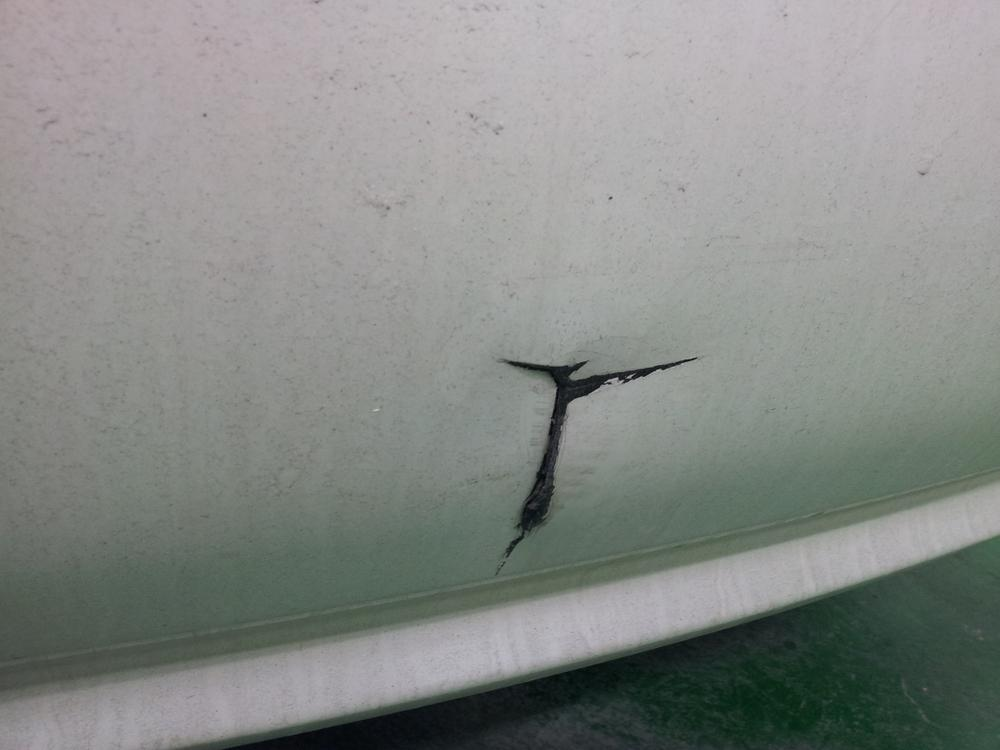crack: (493, 356, 702, 580)
